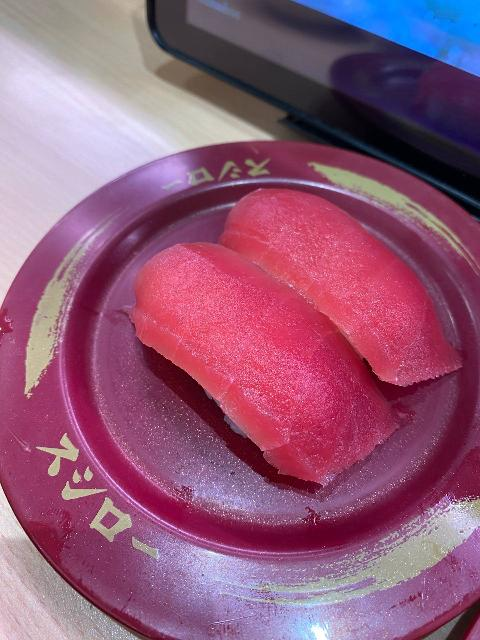janred: (14, 131, 480, 568)
